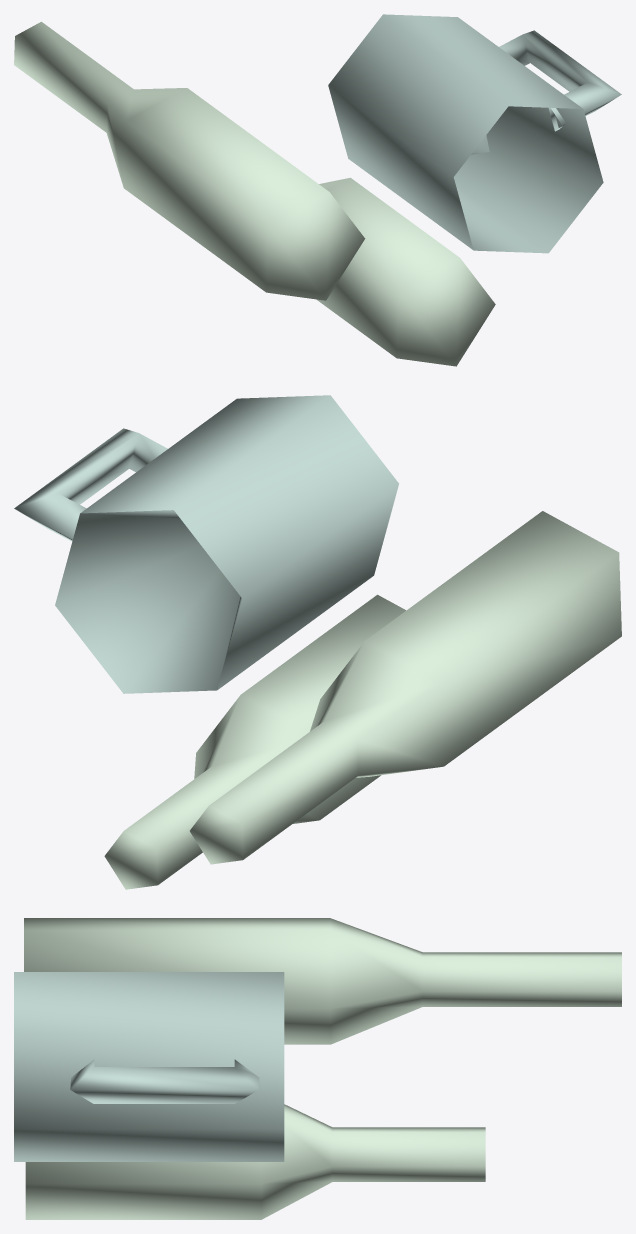
The picture shows the model from 3 angles, top to bottom: view 1: azimuth 30°, elevation 25°; view 2: azimuth 150°, elevation 25°; view 3: azimuth 270°, elevation 25°; orthographic projection. The views are drawn at different scales.
Visible parts, largest first — view 1: Object50; view 2: Object50; view 3: Object50.
Part boxes in pixels (<box>): Object50: <box>14,14,621,366</box>; Object50: <box>14,395,621,889</box>; Object50: <box>14,918,621,1219</box>.
Size of the model in its own units: 4772 by 3056 by 6183.
